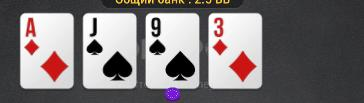3d: (209, 14, 261, 87)
9s: (147, 15, 198, 89)
Ad: (22, 16, 71, 88)
Js: (85, 14, 136, 87)
